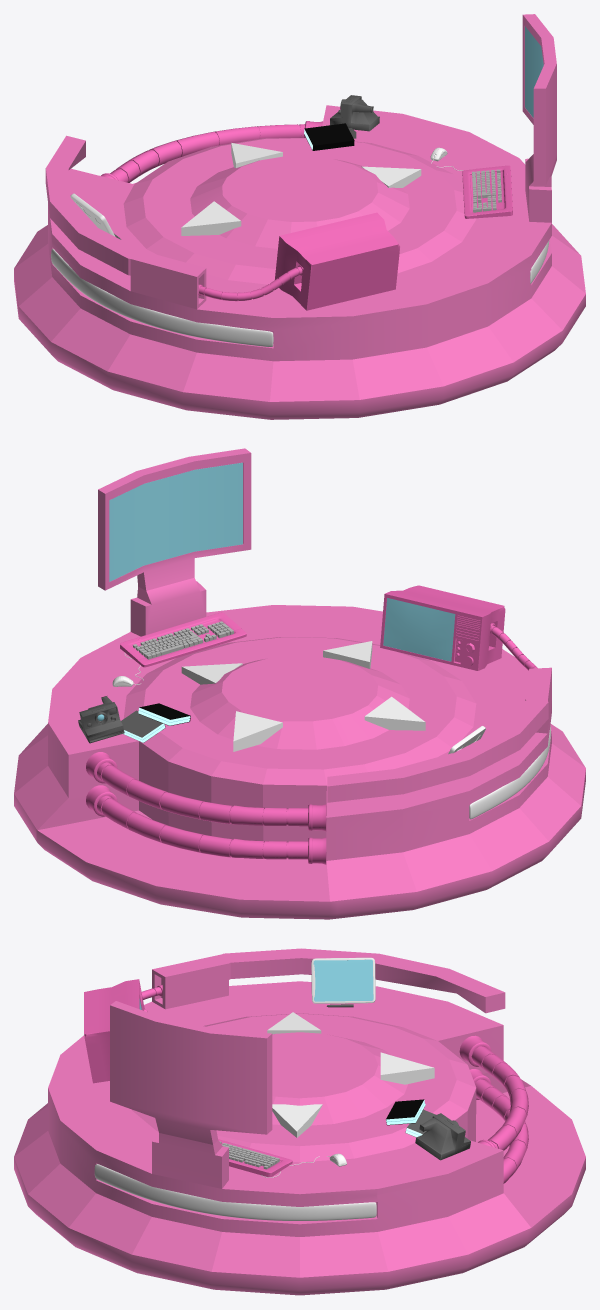
The model's file is socle.gltf.
3 views of the same model, one above another, from view 1: azimuth 30°, elevation 25°; view 2: azimuth 150°, elevation 25°; view 3: azimuth 270°, elevation 25° (orthographic).
Parts seen in each view (by area): view 1: polySurface85; view 2: polySurface85; view 3: polySurface85.
Part boxes in pixels (bbox=[...]): polySurface85: bbox=[14, 14, 585, 419]; polySurface85: bbox=[14, 448, 585, 919]; polySurface85: bbox=[14, 948, 585, 1295].
Bounding box in the file's own units: 5.09 × 2.41 × 5.09.
